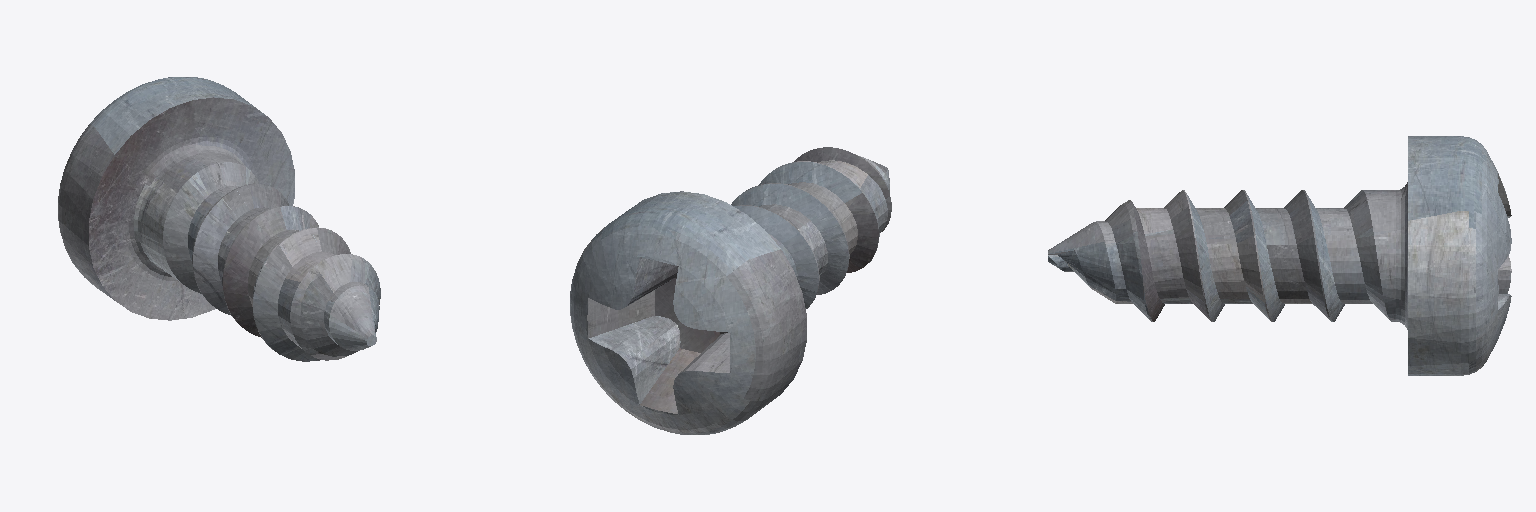
3 views of the same model, side by side, from view 1: azimuth 30°, elevation 25°; view 2: azimuth 150°, elevation 25°; view 3: azimuth 270°, elevation 25° (orthographic).
Parts seen in each view (by area): view 1: Pan_Head; view 2: Pan_Head; view 3: Pan_Head.
Boxes of the visible parts, <box> form: Pan_Head: <box>58,77,380,361</box>; Pan_Head: <box>570,147,891,434</box>; Pan_Head: <box>1048,136,1511,375</box>.
Bounding box in the file's own units: 7.85 × 7.88 × 15.21.
Materials: 1 (1 with a texture image).